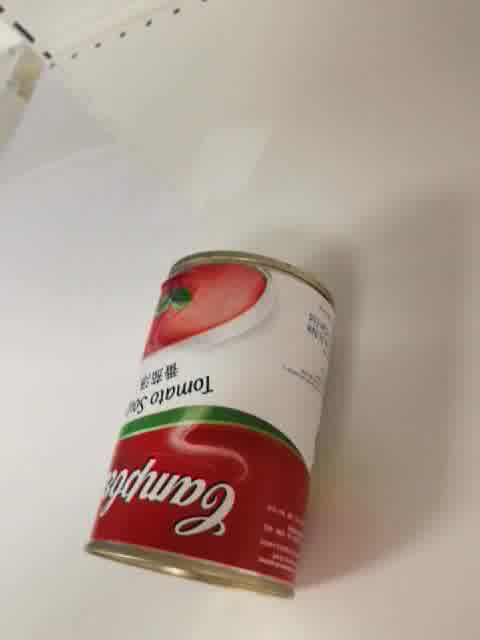tomatosoup: (81, 247, 340, 603)
